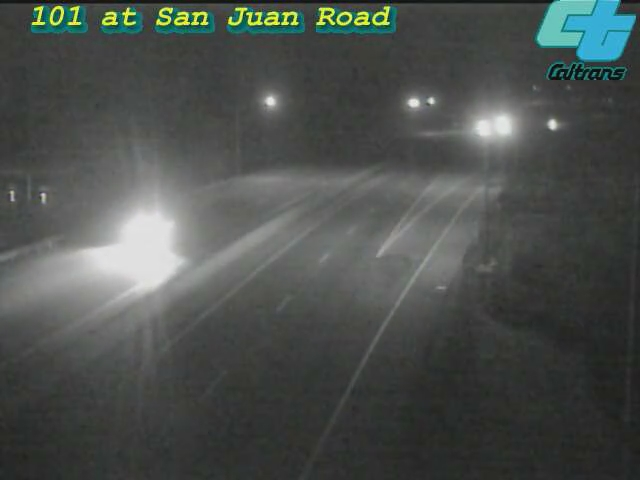vehicle: (97, 192, 177, 272), (527, 101, 577, 151), (454, 104, 504, 154), (476, 100, 526, 150)
